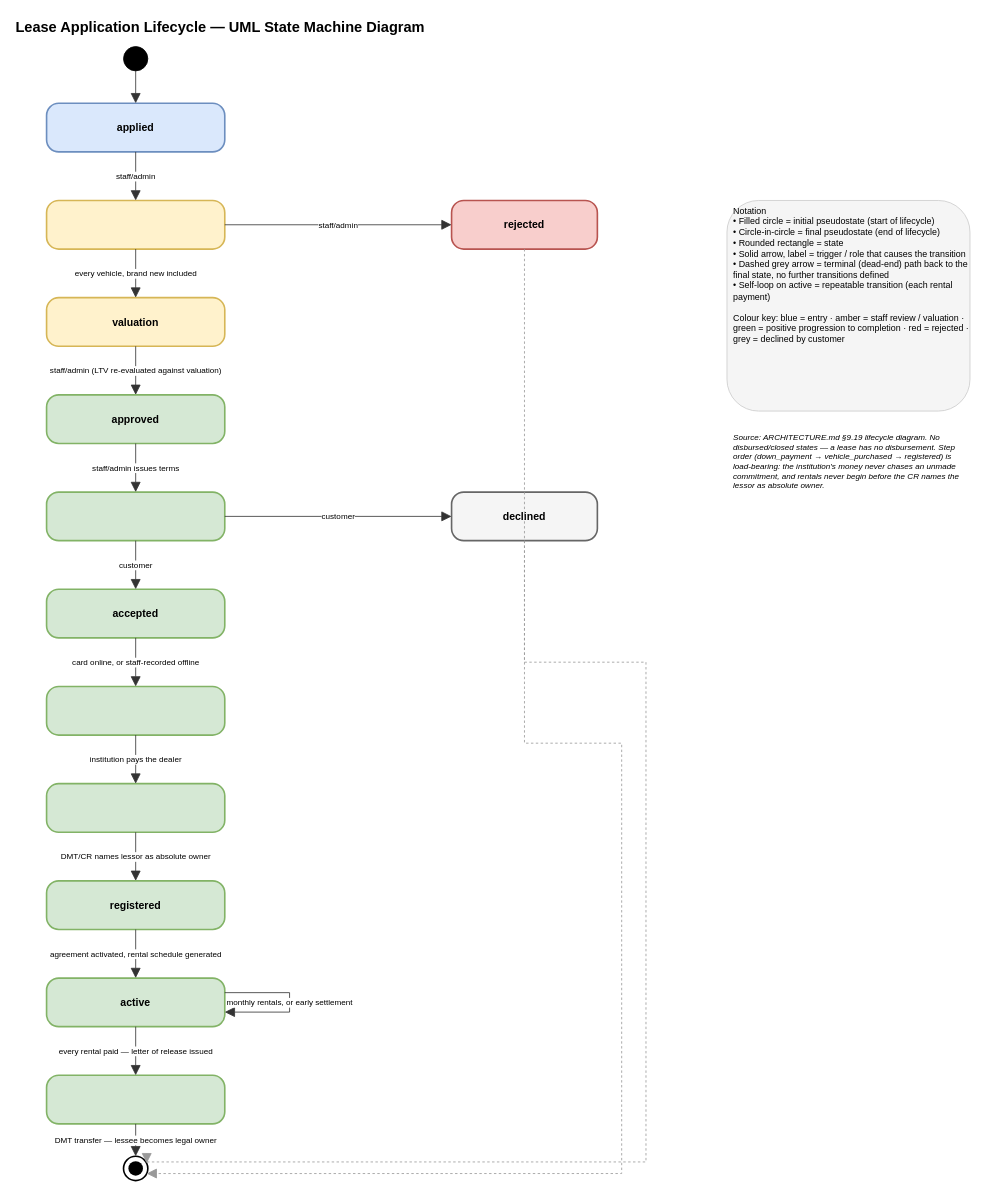
This 984x1197 diagram has some shape labels left out. Here are the shapes that lost their labels. From the top down, the box of each, then its label:
(45, 199, 225, 249): under_review
(45, 491, 225, 541): quoted
(45, 685, 225, 735): down_payment
(45, 782, 225, 833): vehicle_purchased
(45, 1074, 225, 1124): released
